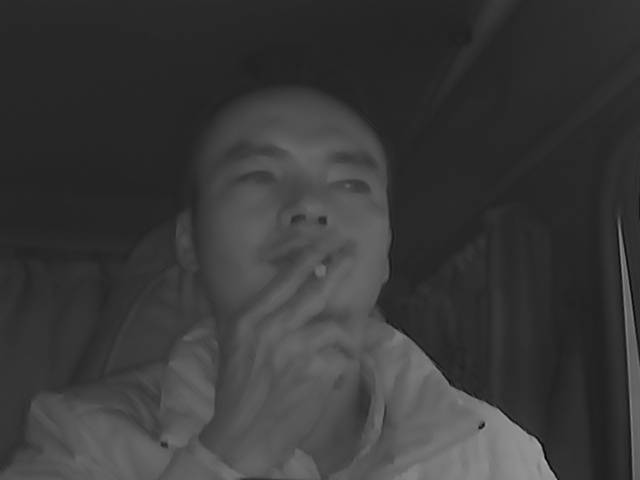hand: (234, 238, 368, 397)
